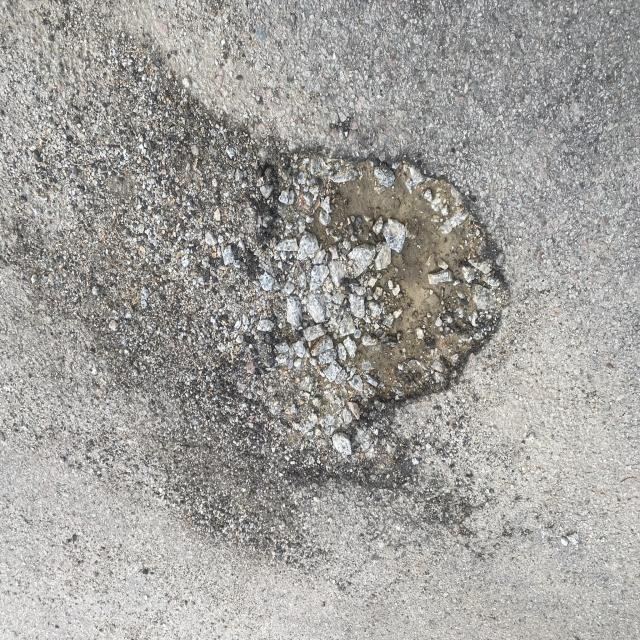pothole: (133, 45, 552, 564)
